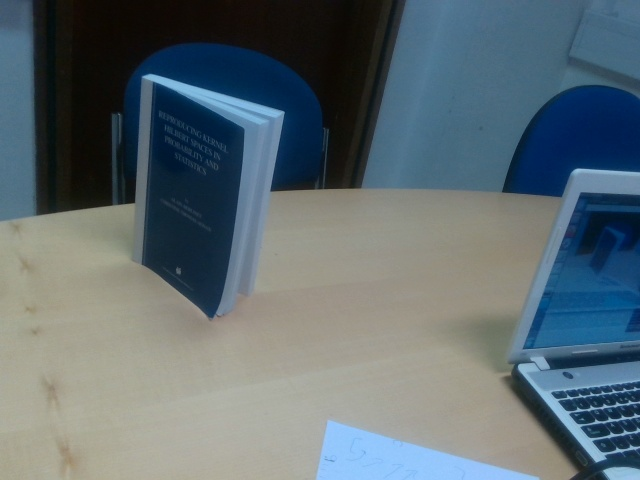book: (133, 73, 284, 319)
